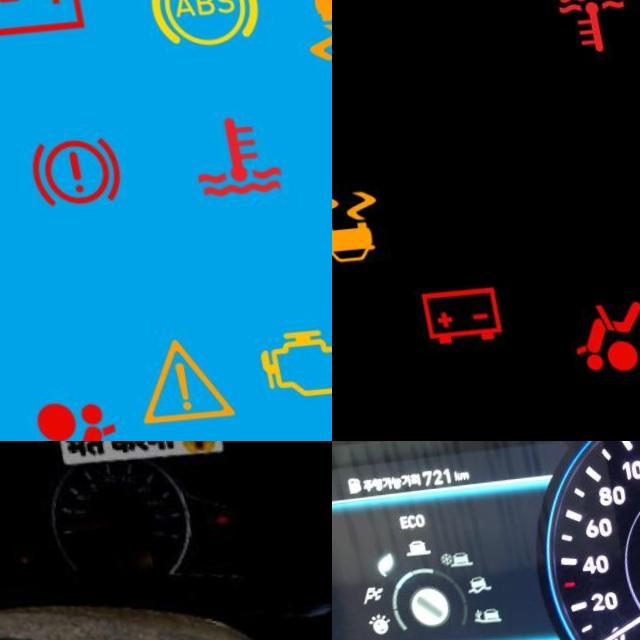High Engine Coolant Temperature: (160, 101, 291, 223), (540, 0, 640, 79)
